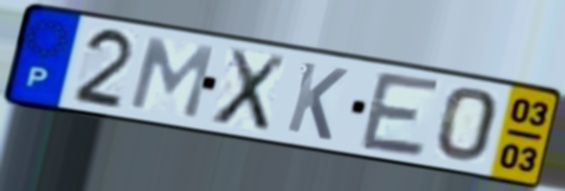0: (432, 85, 502, 166)
2: (70, 25, 140, 113)
E: (356, 68, 445, 162)
K: (282, 58, 352, 144)
M: (125, 34, 218, 123)
X: (207, 45, 290, 135)
